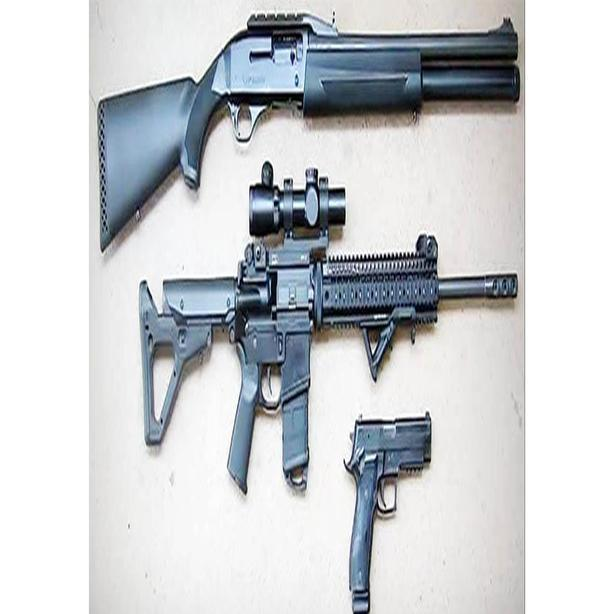Firearm: (140, 175, 522, 490), (94, 2, 525, 248), (333, 414, 466, 614)
